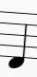note: (6, 5, 29, 71)
